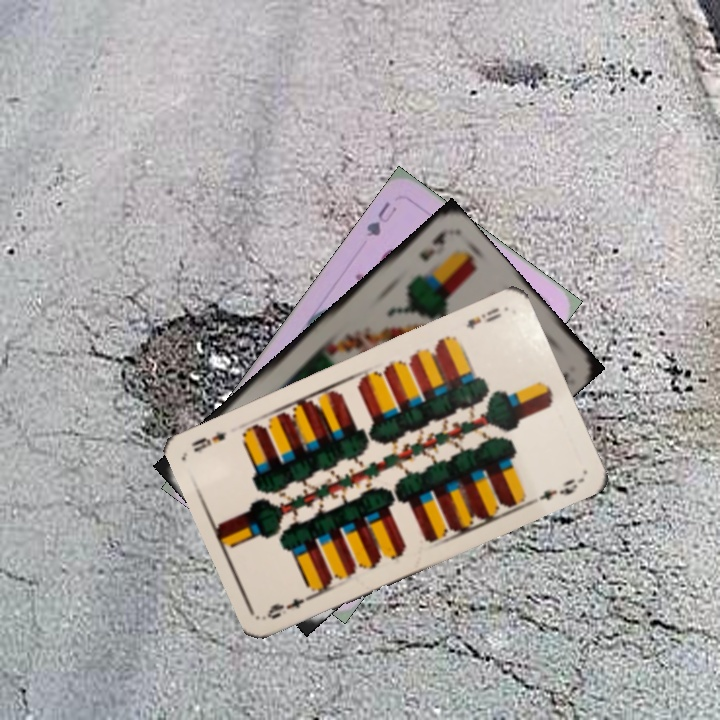E9: (262, 584, 318, 622), (462, 303, 504, 333)
EK: (415, 228, 448, 264)
GU: (362, 197, 400, 240)
